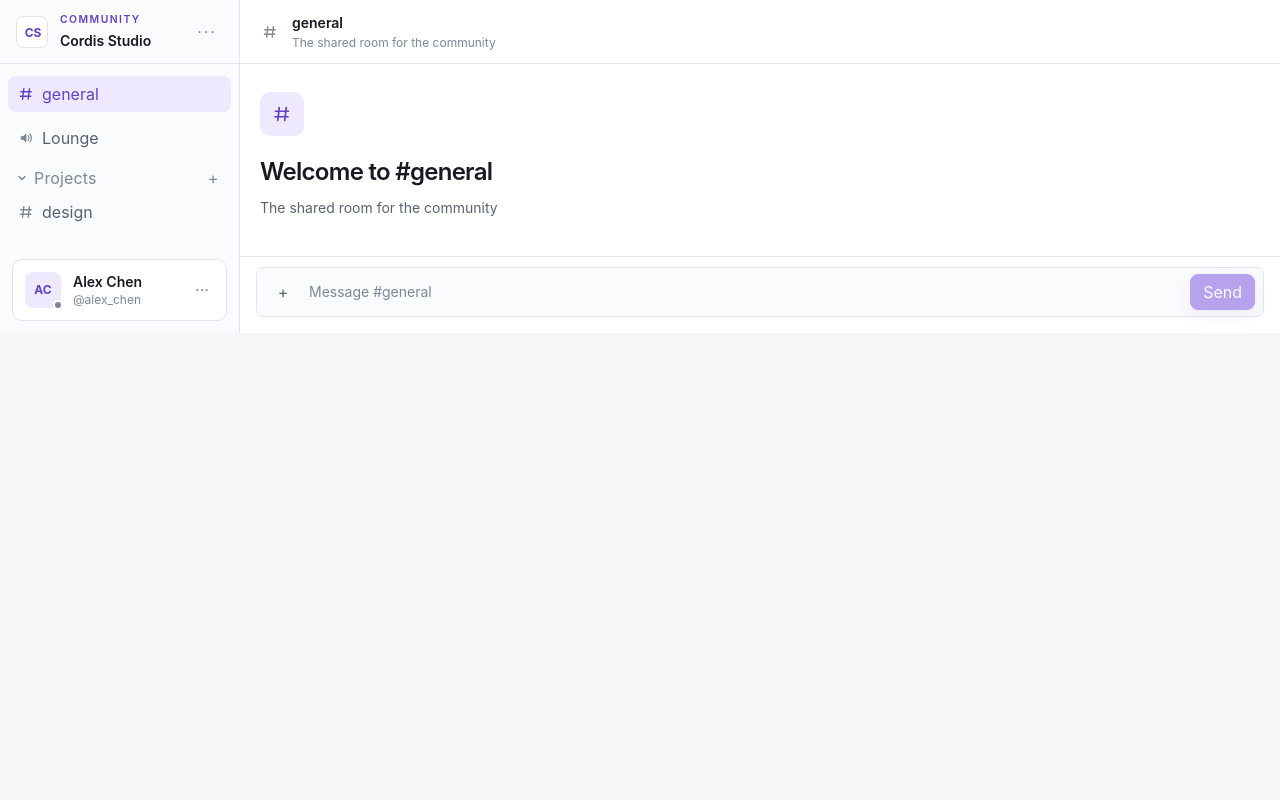
Scenario: GuildPage › creates a top-level category from the community menu without selecting it
Click the button named "Community menu": (207, 32) [191,16,223,48]
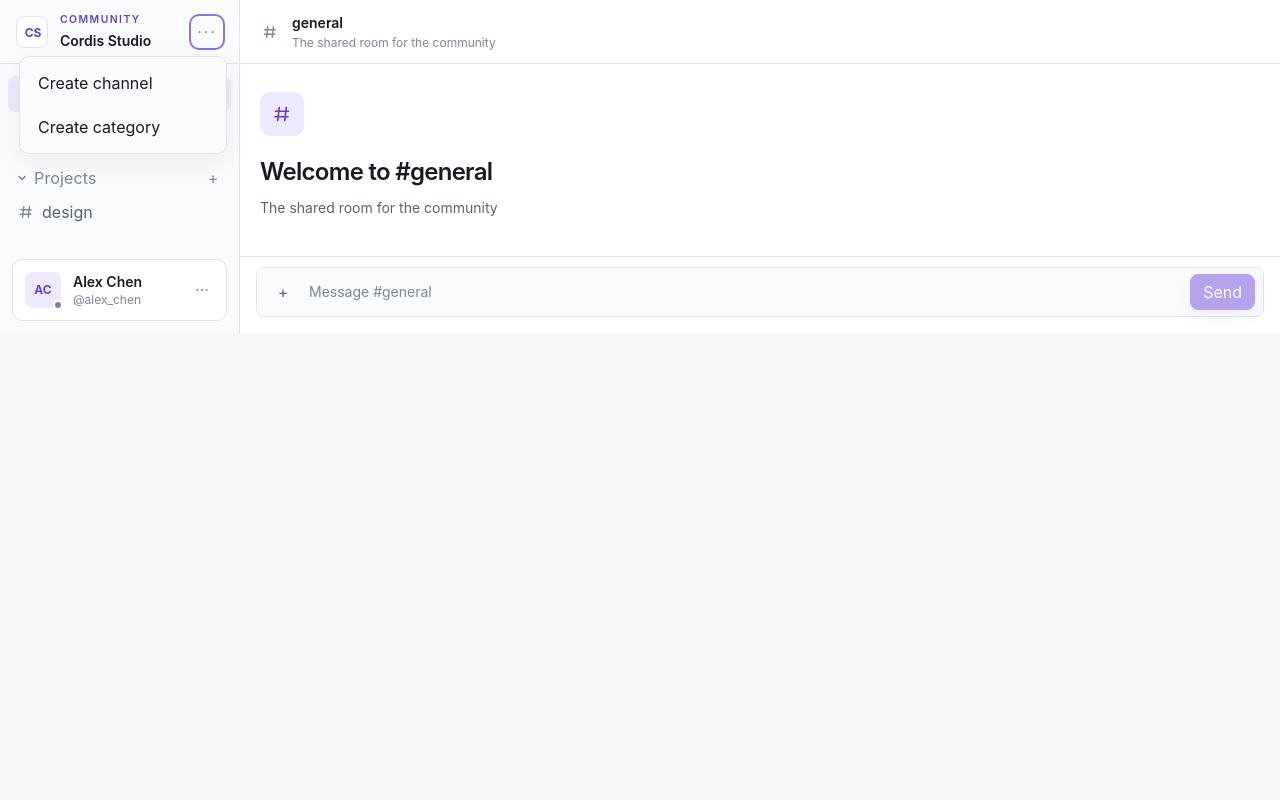
Click the menu item "Create category": (123, 127) [26,107,220,147]
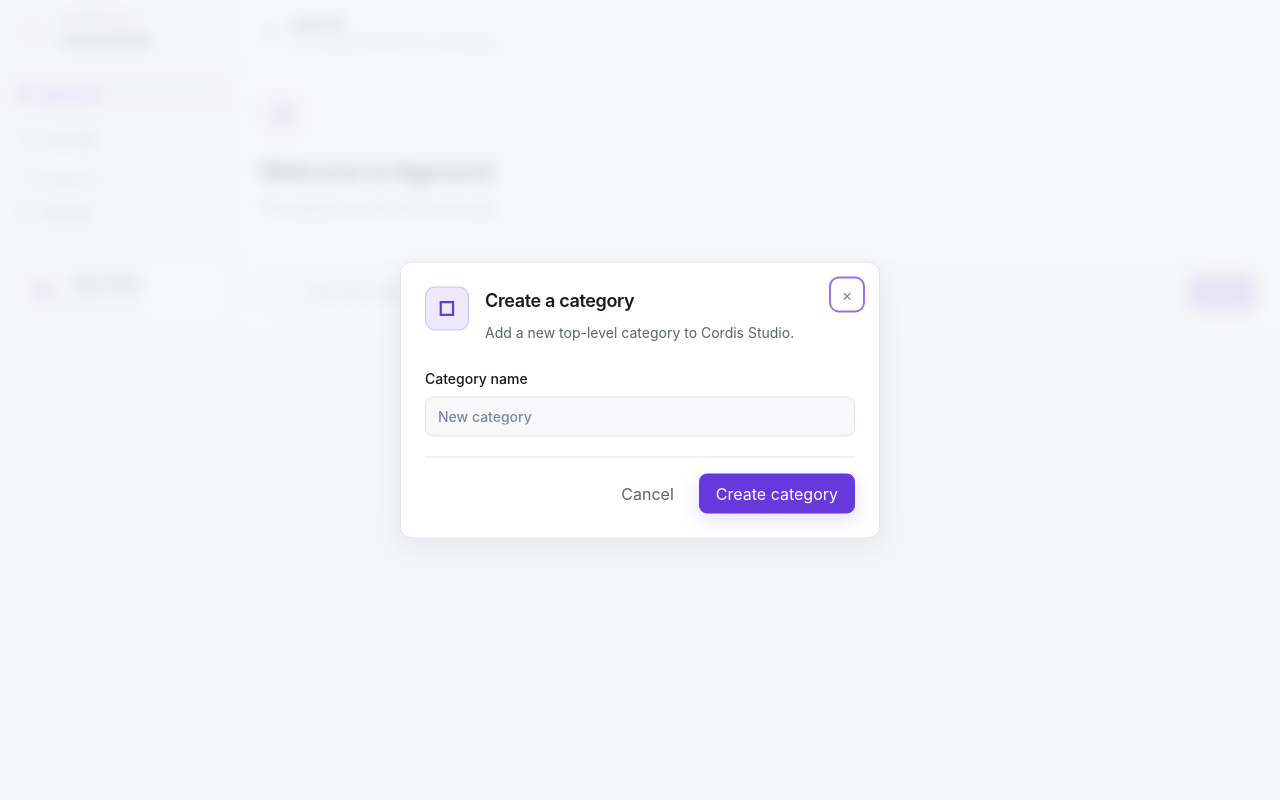
In the field labelled "Category name": (640, 416) [425,396,855,436], type "Announcements"
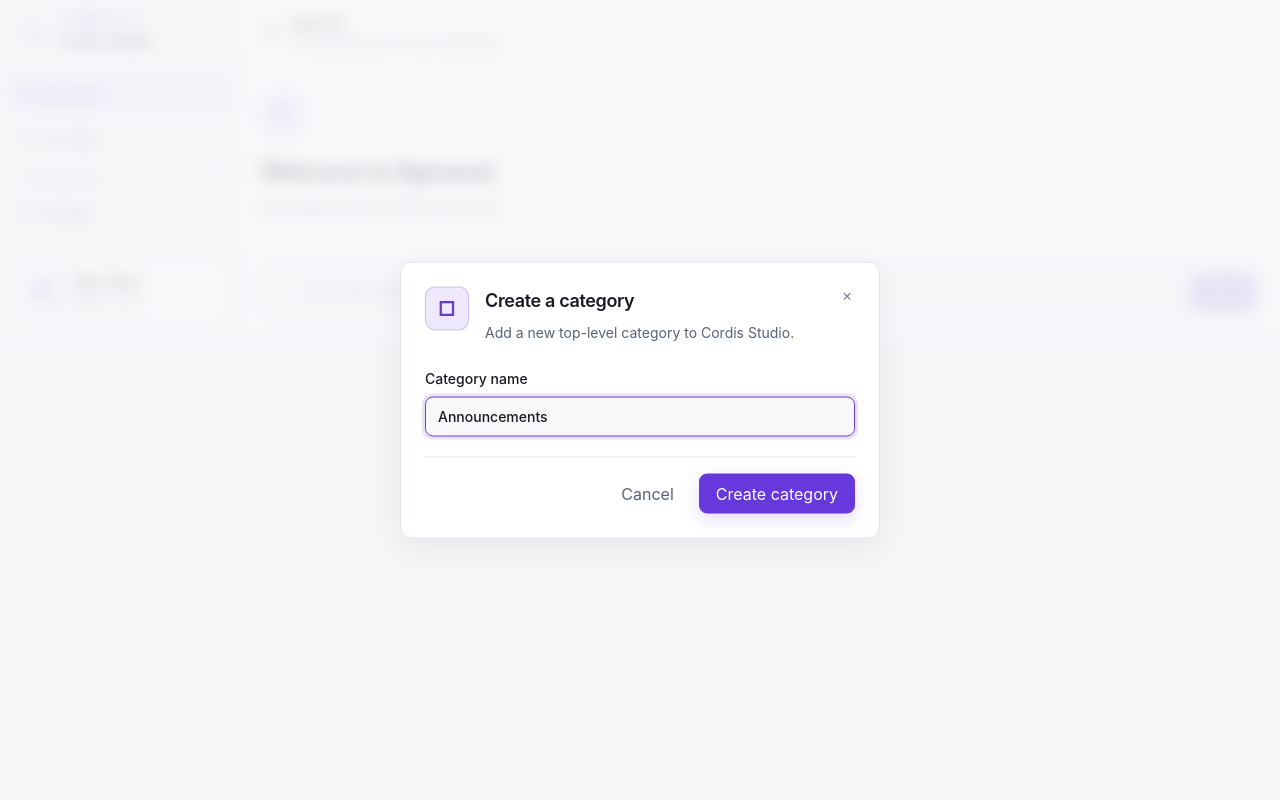
Click the button "Create category": (777, 494) [699,474,855,514]
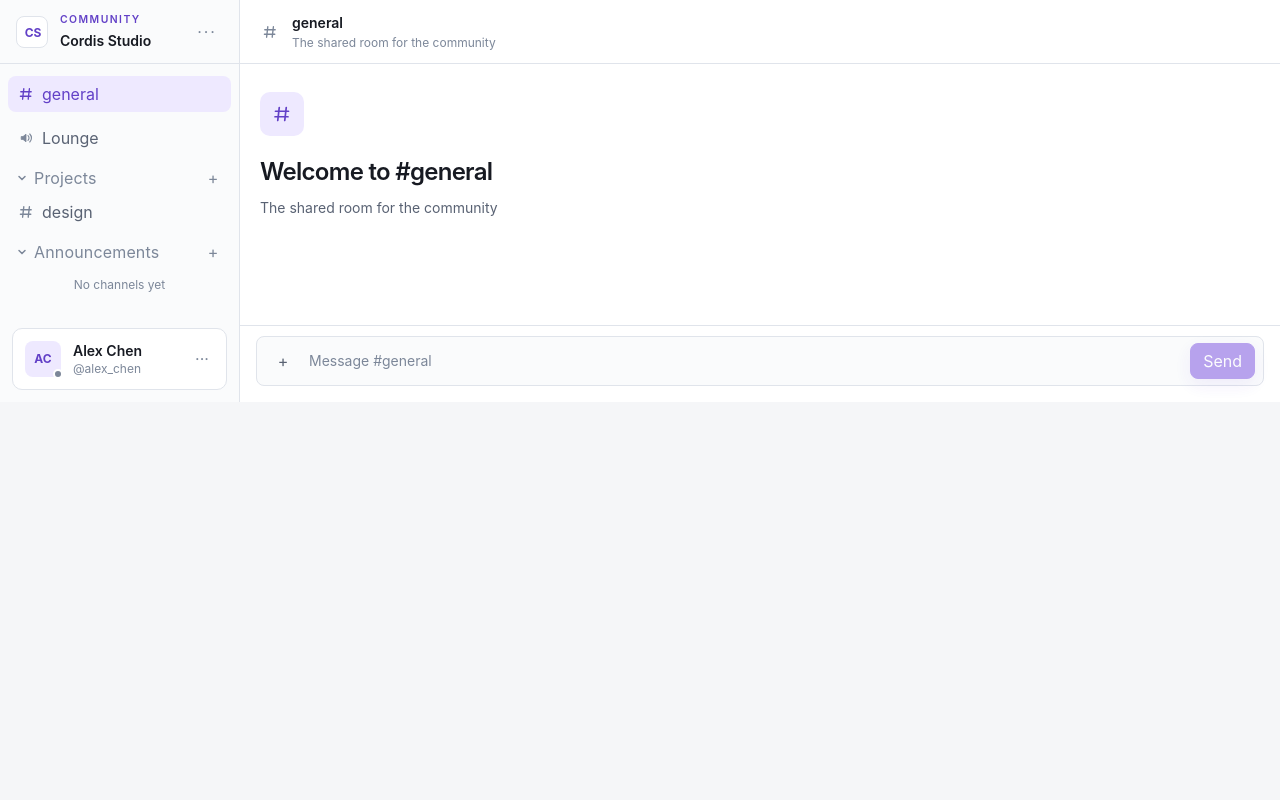
Now the dialog is gone
